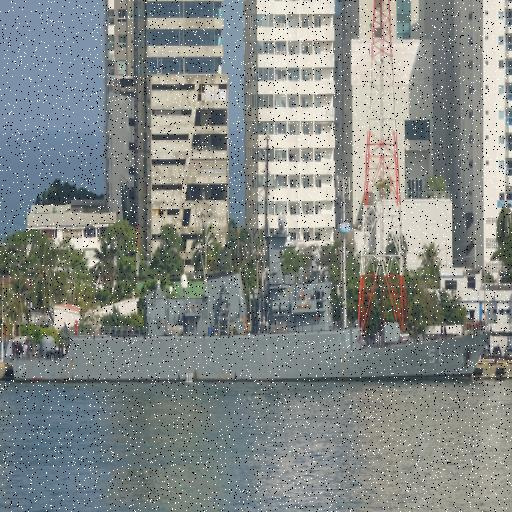Fragata: (9, 253, 493, 388)
